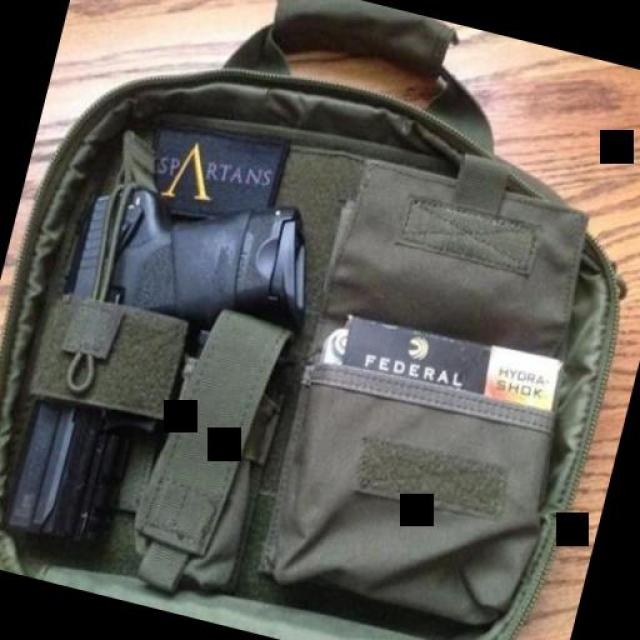gun: (0, 155, 322, 585)
